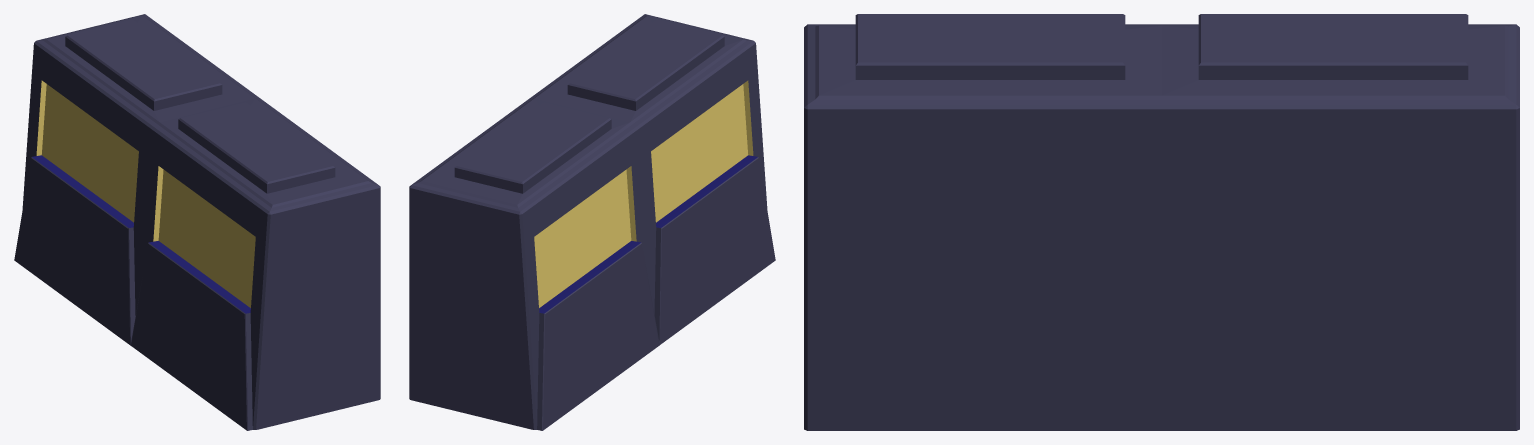
The model's file is Tile-Space-6.fbx.
3 renders of one model, left to right at view 1: azimuth 30°, elevation 25°; view 2: azimuth 150°, elevation 25°; view 3: azimuth 270°, elevation 25°, orthographic. The views are drawn at different scales.
Visible parts, largest first — view 1: Tile06; view 2: Tile06; view 3: Tile06.
Boxes of the visible parts, bbox=[...] form: Tile06: bbox=[14, 14, 380, 430]; Tile06: bbox=[409, 14, 775, 430]; Tile06: bbox=[804, 14, 1519, 430].
Size of the model in its own units: 193 by 315 by 591.
